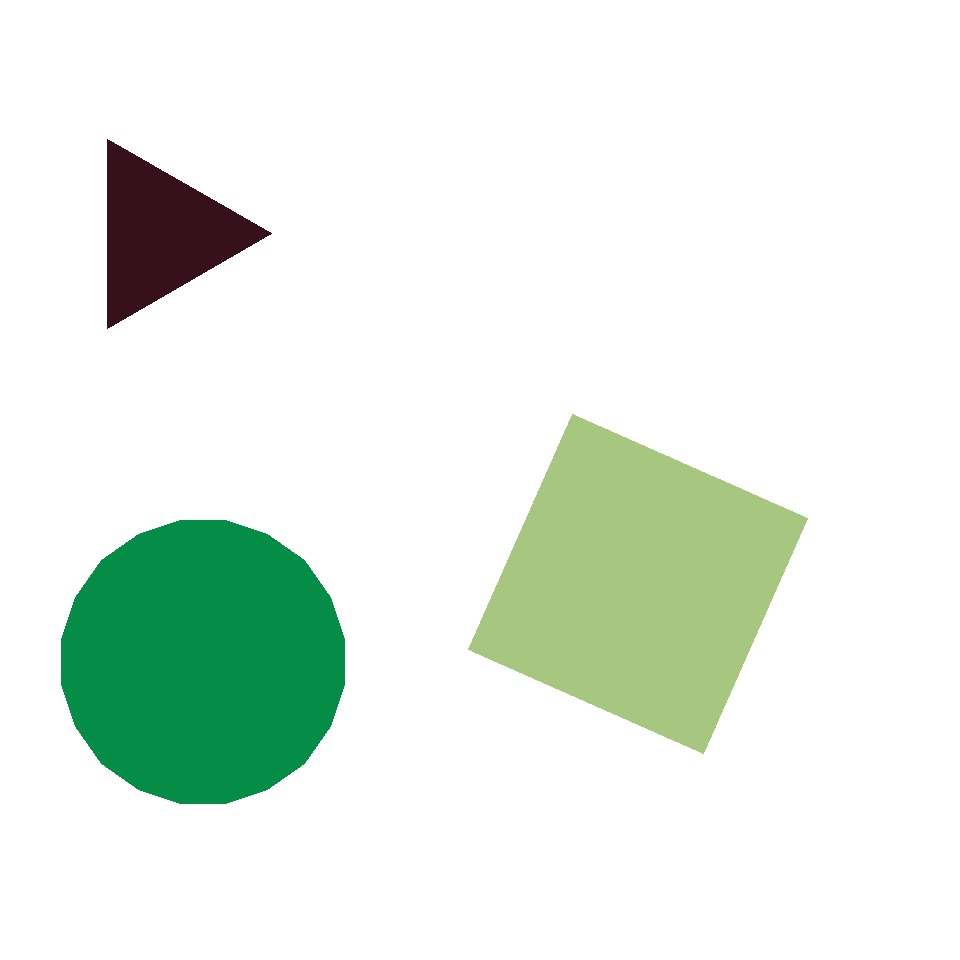circle: (266, 228, 564, 518), (408, 532, 656, 816), (80, 140, 244, 328)
square: (468, 414, 807, 754), (194, 250, 366, 423)
triangle: (61, 520, 344, 804), (654, 266, 878, 491), (606, 354, 807, 556), (396, 552, 512, 670)
